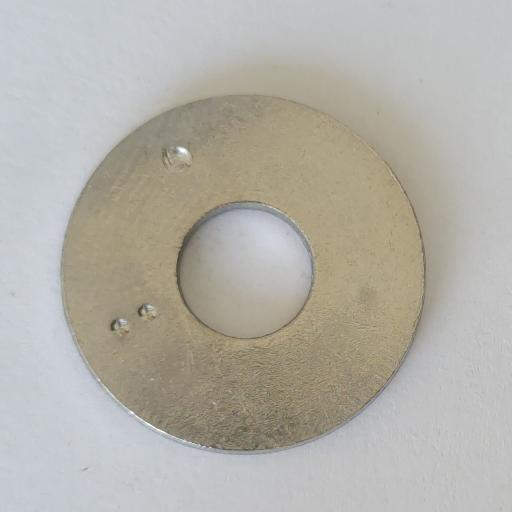circular_cavity: (160, 143, 193, 172), (111, 316, 131, 336), (138, 302, 157, 320)
